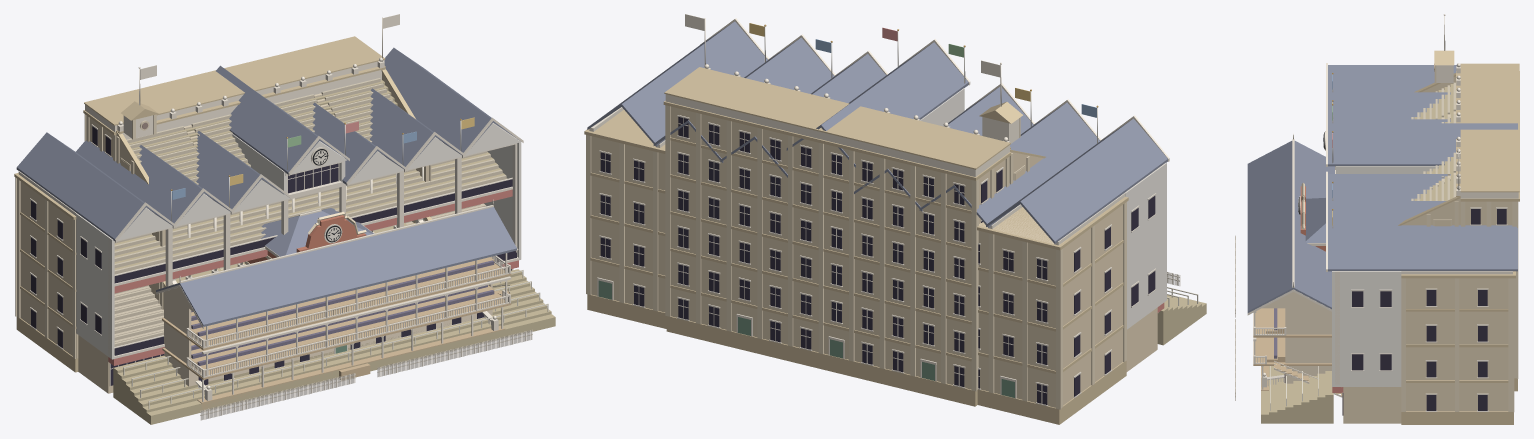
File: gen-tight-l_stands.glb
3 renders of one model, left to right at view 1: azimuth 30°, elevation 25°; view 2: azimuth 150°, elevation 25°; view 3: azimuth 270°, elevation 25°, orthographic. The views are drawn at different scales.
Parts seen in each view (by area): view 1: park_gable_stand, old_pavilion, park_roof_terrace_stand, park_clock_house; view 2: park_roof_terrace_stand, park_gable_stand; view 3: park_gable_stand, old_pavilion, park_roof_terrace_stand, park_clock_house.
Part boxes in pixels (x1,y1,x2,y2): park_gable_stand: (14,47,555,424); old_pavilion: (156,199,532,420); park_roof_terrace_stand: (83,14,498,408); park_clock_house: (244,208,437,394); park_roof_terrace_stand: (663,14,1045,406); park_gable_stand: (584,18,1206,424); park_gable_stand: (1261,63,1517,424); old_pavilion: (1235,133,1342,400); park_roof_terrace_stand: (1261,14,1519,391); park_clock_house: (1298,182,1325,251).
Bounding box in the file's own units: 57.3 × 35.42 × 35.38.
